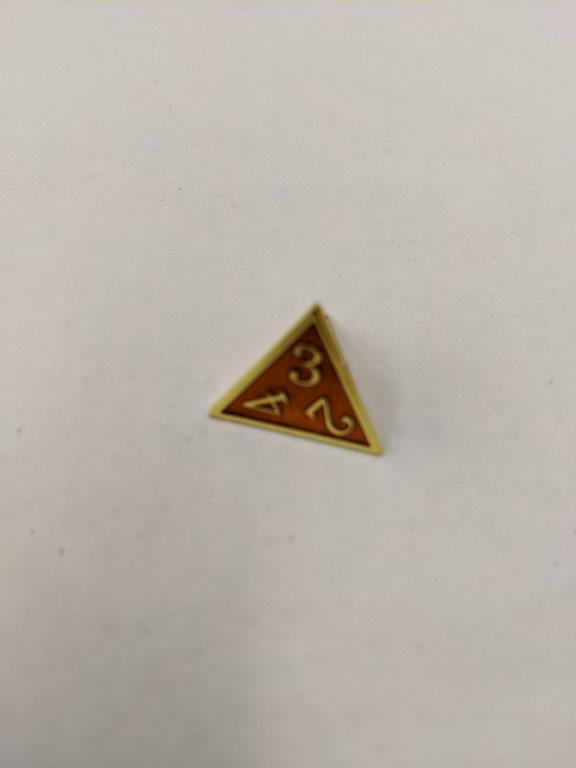d4-3: (202, 300, 387, 461)
